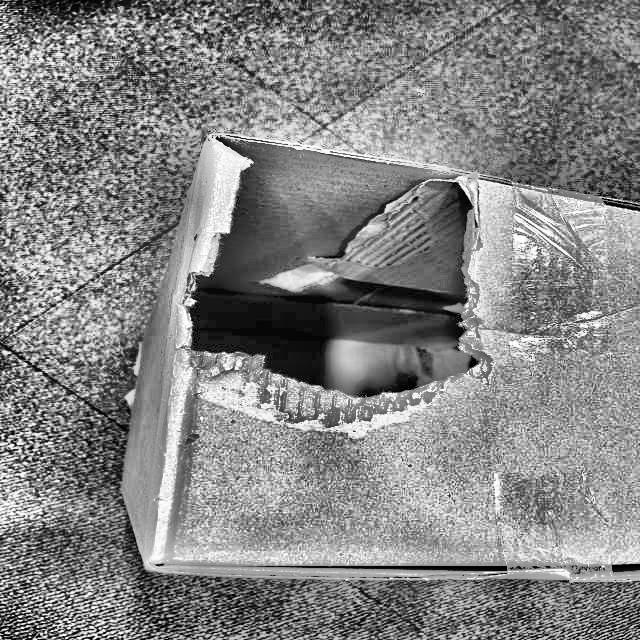box: (109, 105, 639, 605)
hole: (170, 134, 471, 400)
